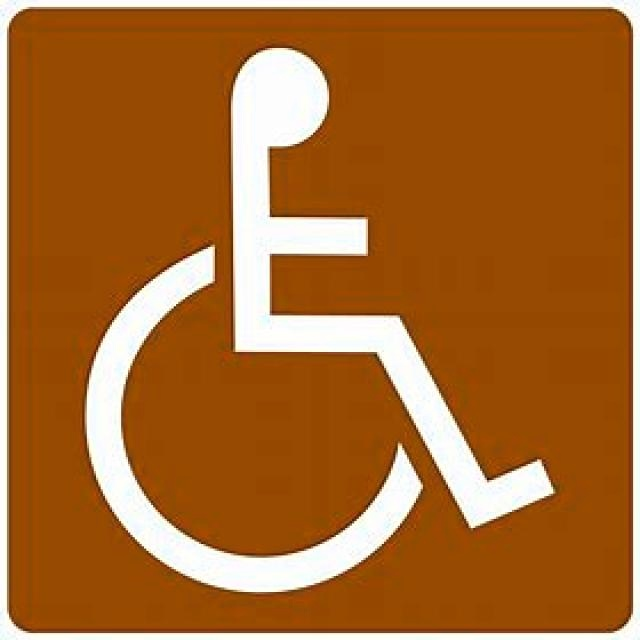ISA: (83, 44, 560, 594)
